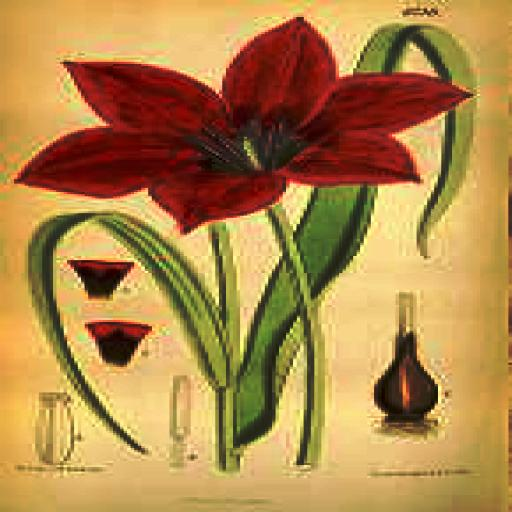tulip: (18, 19, 473, 228)
